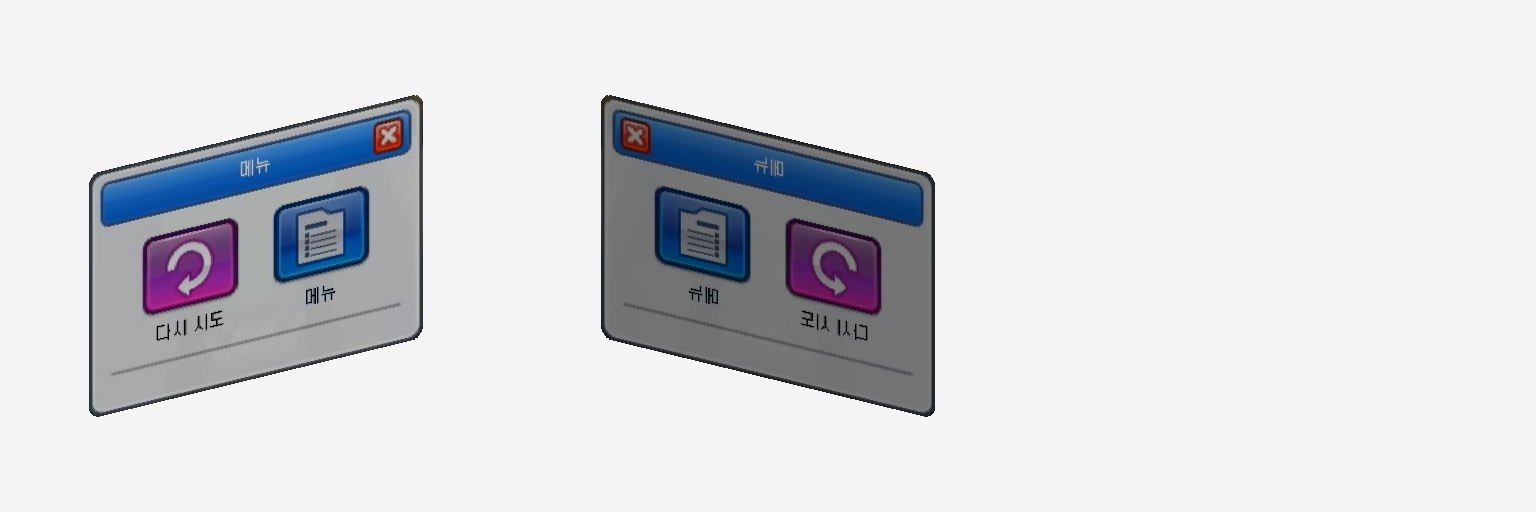
3 views of the same model, side by side, from view 1: azimuth 30°, elevation 25°; view 2: azimuth 150°, elevation 25°; view 3: azimuth 270°, elevation 25° (orthographic).
Parts seen in each view (by area): view 1: Plane; view 2: Plane; view 3: none.
Boxes of the visible parts, <box> form: Plane: <box>89,95,422,416</box>; Plane: <box>601,95,934,416</box>.
Bounding box in the file's own units: 2.86 × 2 × 0.
1 materials, 1 textured.